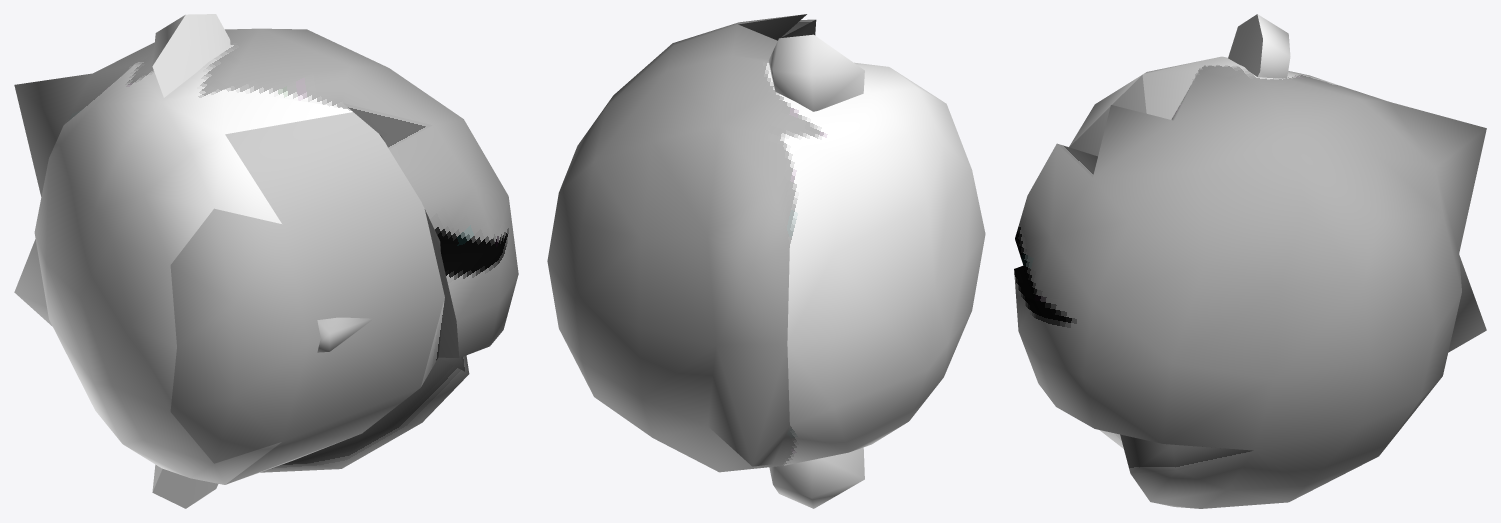
Rendered from boy02a.dae.
3 views of the same model, side by side, from view 1: azimuth 30°, elevation 25°; view 2: azimuth 150°, elevation 25°; view 3: azimuth 270°, elevation 25° (orthographic). The views are drawn at different scales.
Visible parts, largest first — view 1: vsn_mesh_0_, vsn_mesh_1_, vsn_mesh_2_; view 2: vsn_mesh_0_; view 3: vsn_mesh_0_, vsn_mesh_1_.
Part boxes in pixels (x1=…): vsn_mesh_0_: x1=14, y1=14, x2=518, y2=508; vsn_mesh_1_: x1=225, y1=112, x2=444, y2=484; vsn_mesh_2_: x1=170, y1=208, x2=308, y2=463; vsn_mesh_0_: x1=547, y1=14, x2=985, y2=508; vsn_mesh_0_: x1=1014, y1=14, x2=1486, y2=508; vsn_mesh_1_: x1=1069, y1=75, x2=1146, y2=156.
Bounding box in the file's own units: 21.19 × 26.71 × 23.76.
